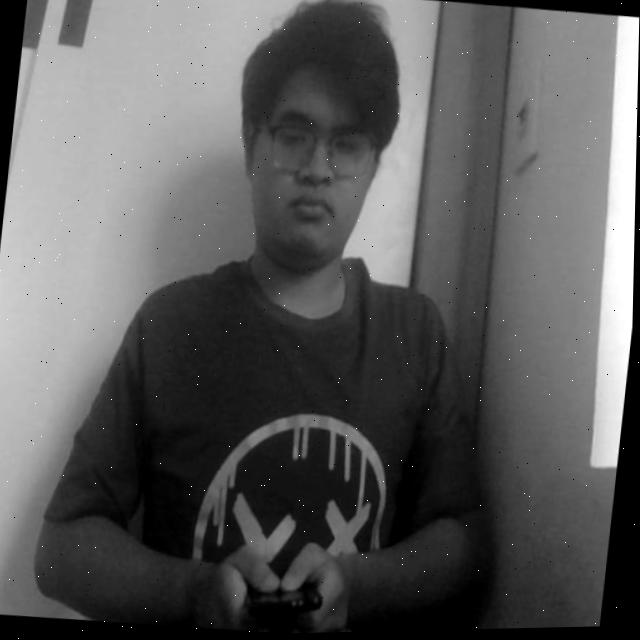phone: (227, 544, 332, 636)
